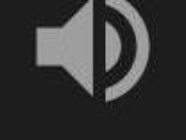ImgButton: (1, 1, 185, 139)
